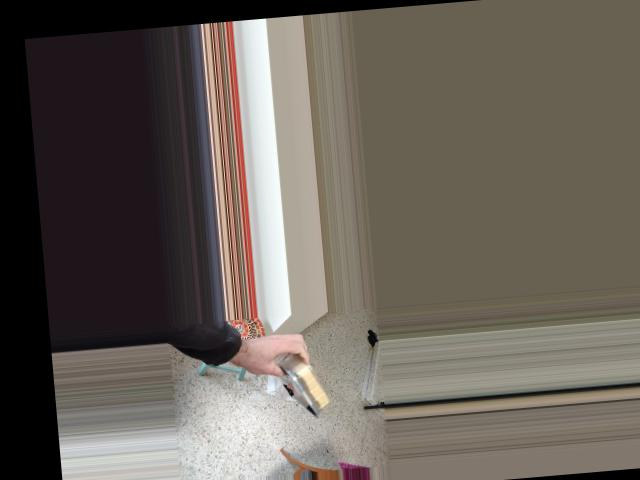cheese: (256, 317, 345, 425)
